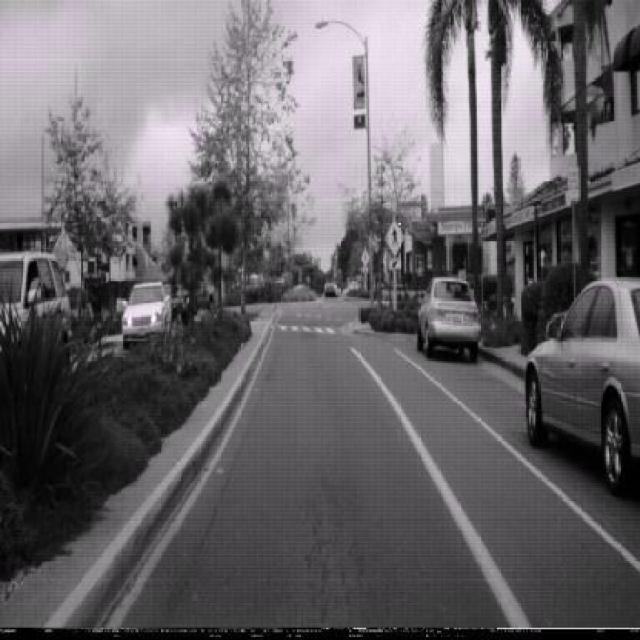pedestrianCrossing: (384, 217, 404, 257)
